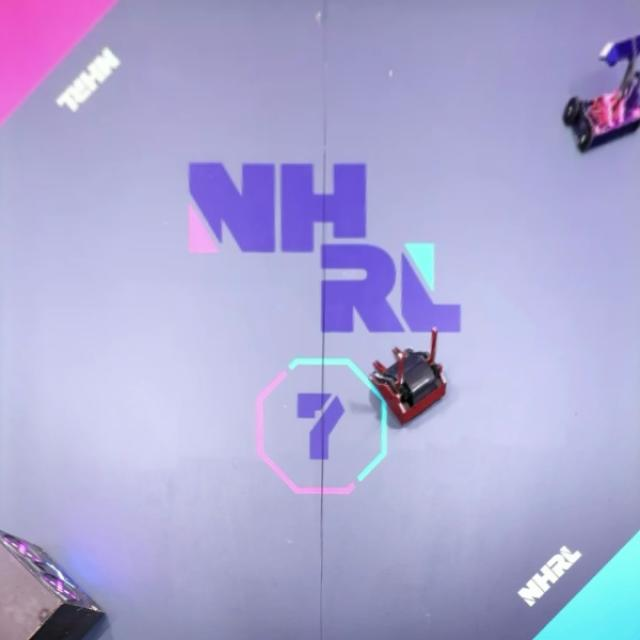housebot: (0, 529, 107, 640)
robot: (562, 32, 640, 155), (368, 327, 448, 426)
